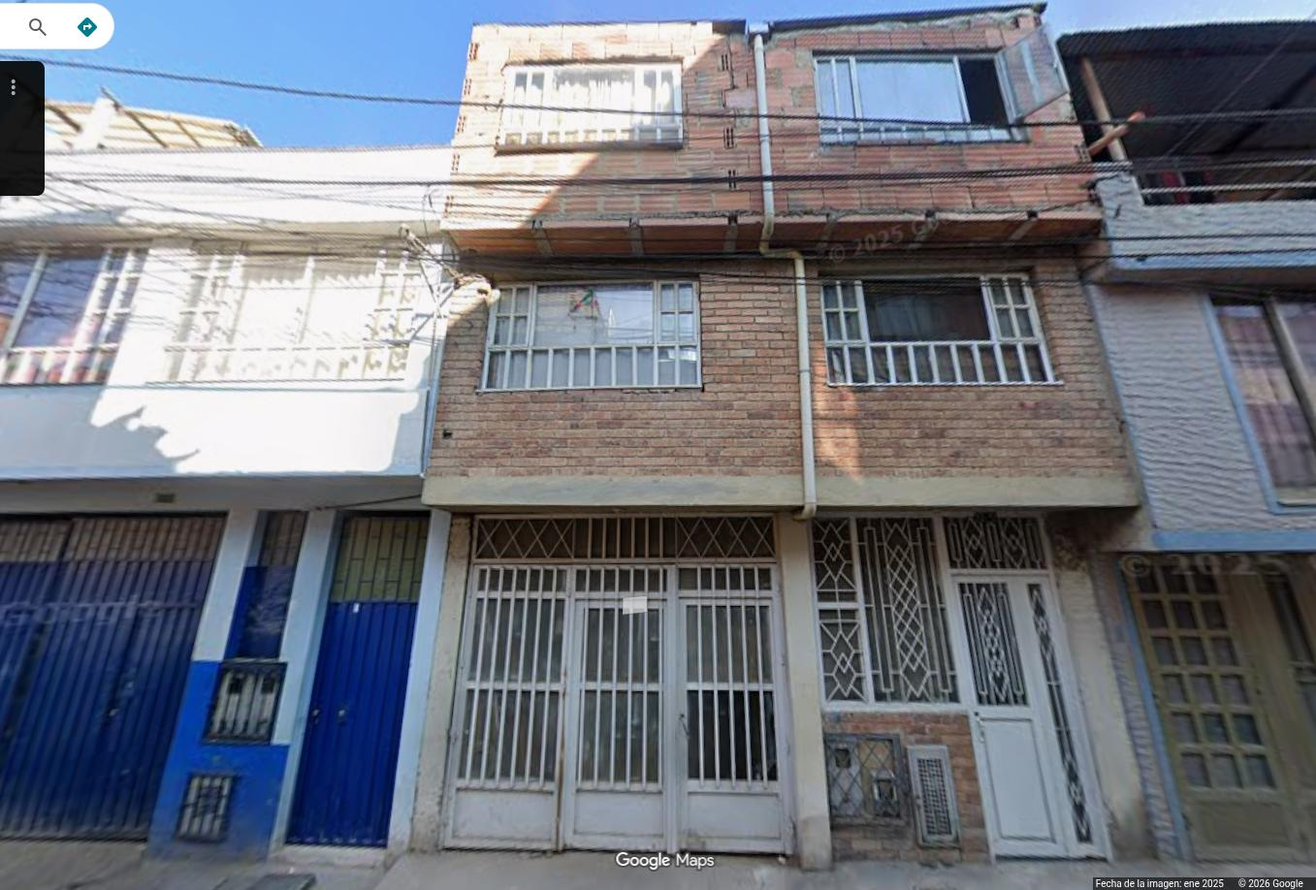casa: (423, 2, 1136, 868), (0, 121, 457, 859)
